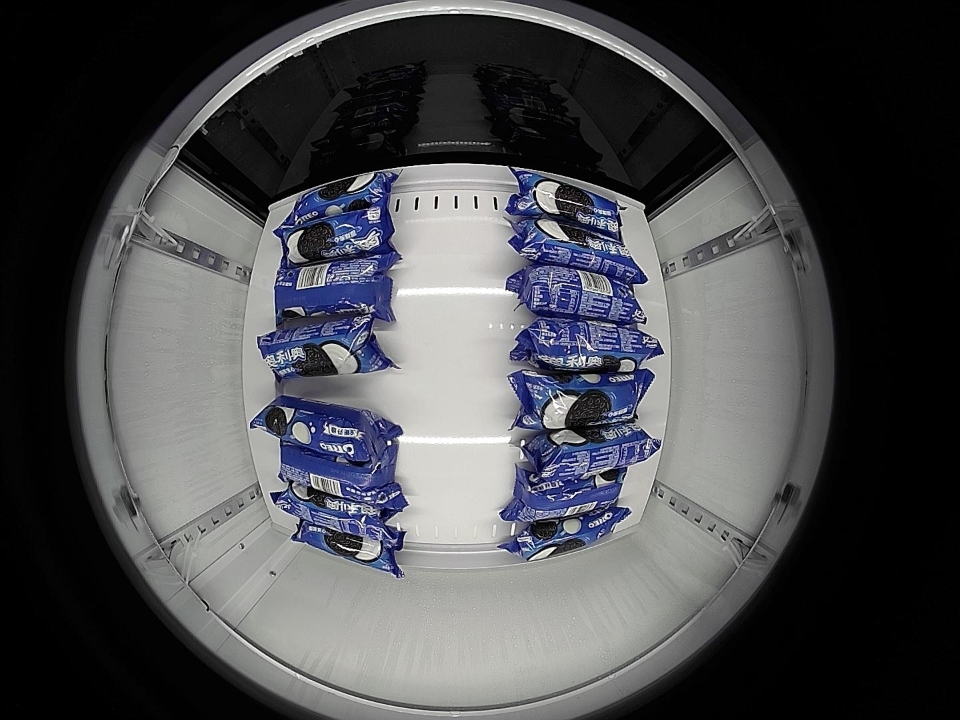aoliao: (259, 398, 392, 467), (258, 316, 380, 379), (520, 373, 651, 429), (522, 318, 660, 370), (514, 171, 627, 234), (272, 259, 392, 318), (521, 221, 640, 279), (522, 266, 646, 321), (280, 445, 402, 500), (280, 209, 390, 260), (537, 430, 651, 478), (504, 476, 625, 519), (284, 490, 388, 539), (294, 526, 399, 574), (281, 172, 390, 218), (516, 511, 614, 560)
